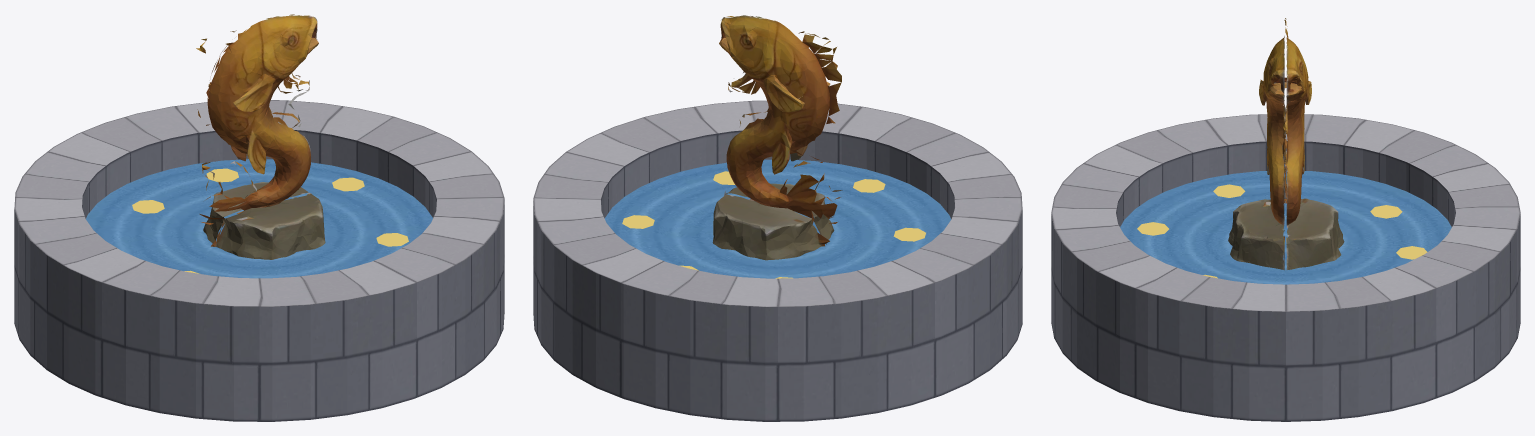
File: fountain.glb
3 views of the same model, side by side, from view 1: azimuth 30°, elevation 25°; view 2: azimuth 150°, elevation 25°; view 3: azimuth 270°, elevation 25° (orthographic). The views are drawn at different scales.
Visible parts, largest first — view 1: basin, geometry_0; view 2: basin, geometry_0; view 3: basin, geometry_0.
Part boxes in pixels (x1,y1,x2,y2): basin: [14, 100, 504, 421]; geometry_0: [196, 14, 325, 259]; basin: [533, 100, 1022, 421]; geometry_0: [712, 15, 842, 260]; basin: [1051, 114, 1520, 421]; geometry_0: [1228, 18, 1344, 270].
Size of the model in its own units: 2.9 by 1.95 by 2.9.
5 materials, 4 textured.
